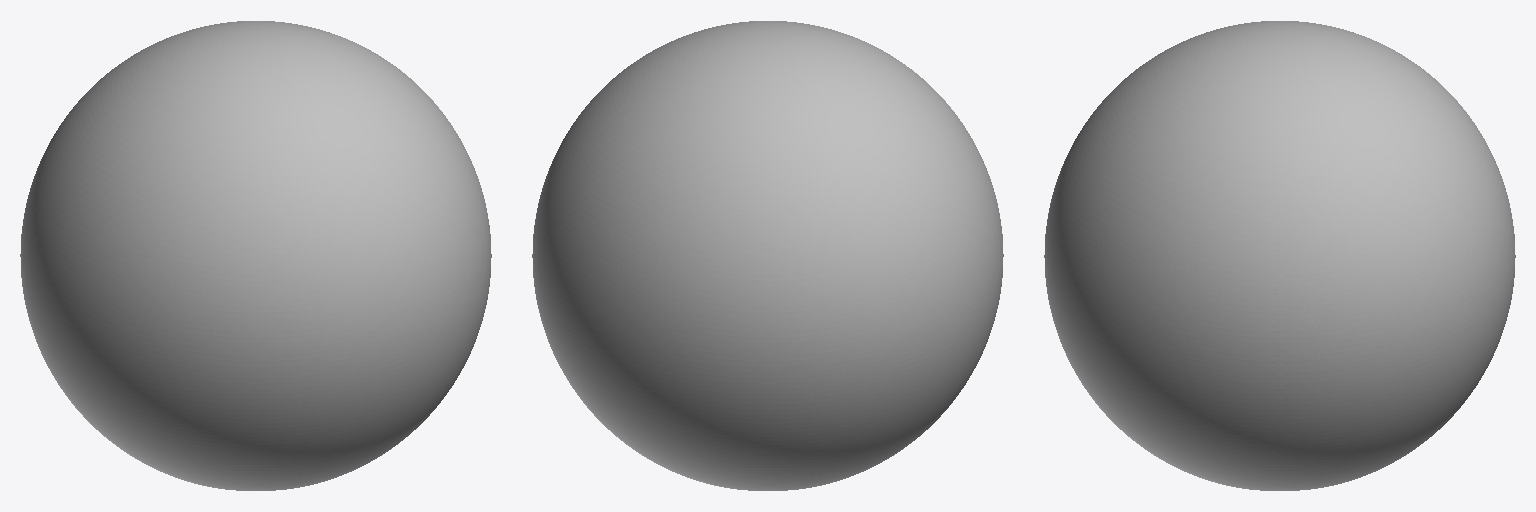
URDF robot description (root):
<?xml version='1.0' encoding='utf-8'?>
<robot name="root">
  <link name="link_001">
    <visual>
      <origin xyz="0 0 0" rpy="0 0 0" />
      <geometry>
        <mesh filename="cf001b7fc5a22cccb1881304aa9ab8d6440f0503f877d79a7014ec5c7d46f01c_scale_001.stl" scale="1.0000E+00 1.0000E+00 1.0000E+00" />
      </geometry>
      <material name="">
        <color rgba="7.50E-01 7.50E-01 7.50E-01 1" />
      </material>
    </visual>
    <collision>
      <origin xyz="0 0 0" rpy="0 0 0" />
      <geometry>
        <mesh filename="cf001b7fc5a22cccb1881304aa9ab8d6440f0503f877d79a7014ec5c7d46f01c_scale_001.stl" scale="1.0000E+00 1.0000E+00 1.0000E+00" />
      </geometry>
    </collision>
  </link>
</robot>

--- Render facts (derived) ---
3 views of the same robot in one strip: view 1: azimuth 30°, elevation 25°; view 2: azimuth 150°, elevation 25°; view 3: azimuth 270°, elevation 25° (orthographic).
Robot: root — 1 links, 0 joints (none); root link link_001; default pose: every joint at zero.
Visible links, largest first — view 1: link_001; view 2: link_001; view 3: link_001.
Link boxes in pixels (x1,y1,x2,y2): link_001: (20, 21, 491, 490); link_001: (532, 21, 1003, 490); link_001: (1044, 21, 1515, 490).
Bounding box of the posed robot: 0.12 × 0.12 × 0.1126 m (x, y, z).
Meshes: 1 distinct files referenced, 1 mesh visuals loaded (1 binary STL).
